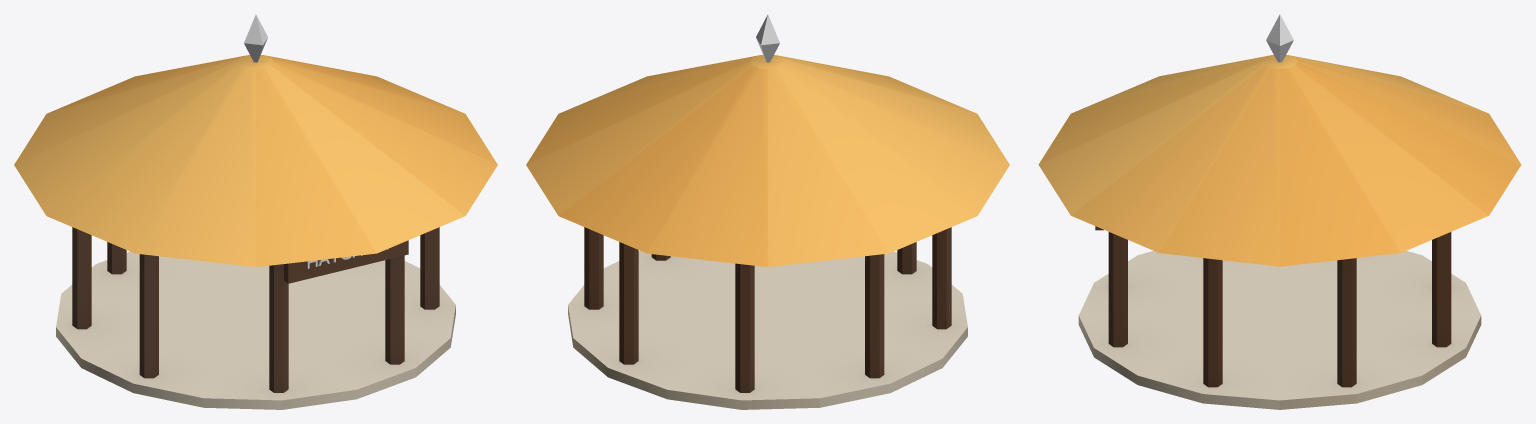
The model's file is home_hatchery_2.fbx.
3 views of the same model, side by side, from view 1: azimuth 30°, elevation 25°; view 2: azimuth 150°, elevation 25°; view 3: azimuth 270°, elevation 25° (orthographic).
Parts seen in each view (by area): view 1: home_hatchery_2_body, home_hatchery_2_body_glow; view 2: home_hatchery_2_body, home_hatchery_2_body_glow; view 3: home_hatchery_2_body, home_hatchery_2_body_glow.
Part boxes in pixels (bbox=[...]): home_hatchery_2_body: bbox=[14, 55, 497, 409]; home_hatchery_2_body_glow: bbox=[244, 14, 267, 62]; home_hatchery_2_body: bbox=[526, 55, 1009, 409]; home_hatchery_2_body_glow: bbox=[756, 14, 779, 62]; home_hatchery_2_body: bbox=[1038, 55, 1521, 409]; home_hatchery_2_body_glow: bbox=[1266, 14, 1293, 62].
Bounding box in the file's own units: 2760 × 1960 × 2760.
2 materials, 1 textured.
